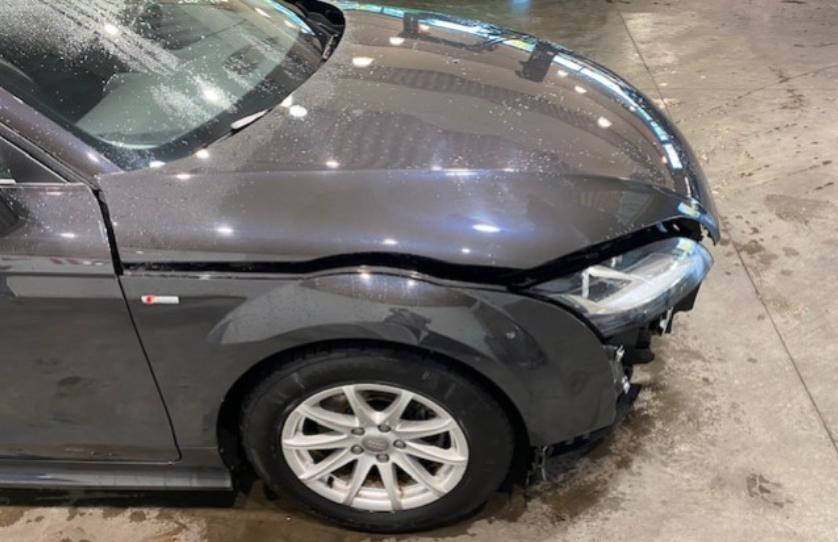Fender: (118, 267, 616, 464)
Front-door: (1, 132, 179, 463)
Front-wheel: (244, 344, 521, 533)
Headlight: (542, 237, 713, 335)
Hood: (95, 6, 719, 273)
Rocker-panel: (0, 460, 233, 490)
Windshield: (2, 2, 343, 171)
